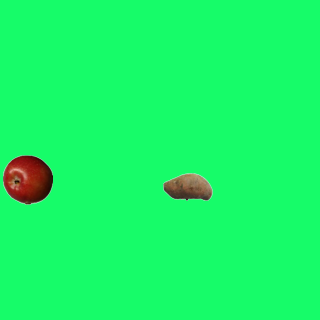Apple Braeburn: (2, 154, 52, 204)
Potato Sweet: (162, 161, 212, 211)
